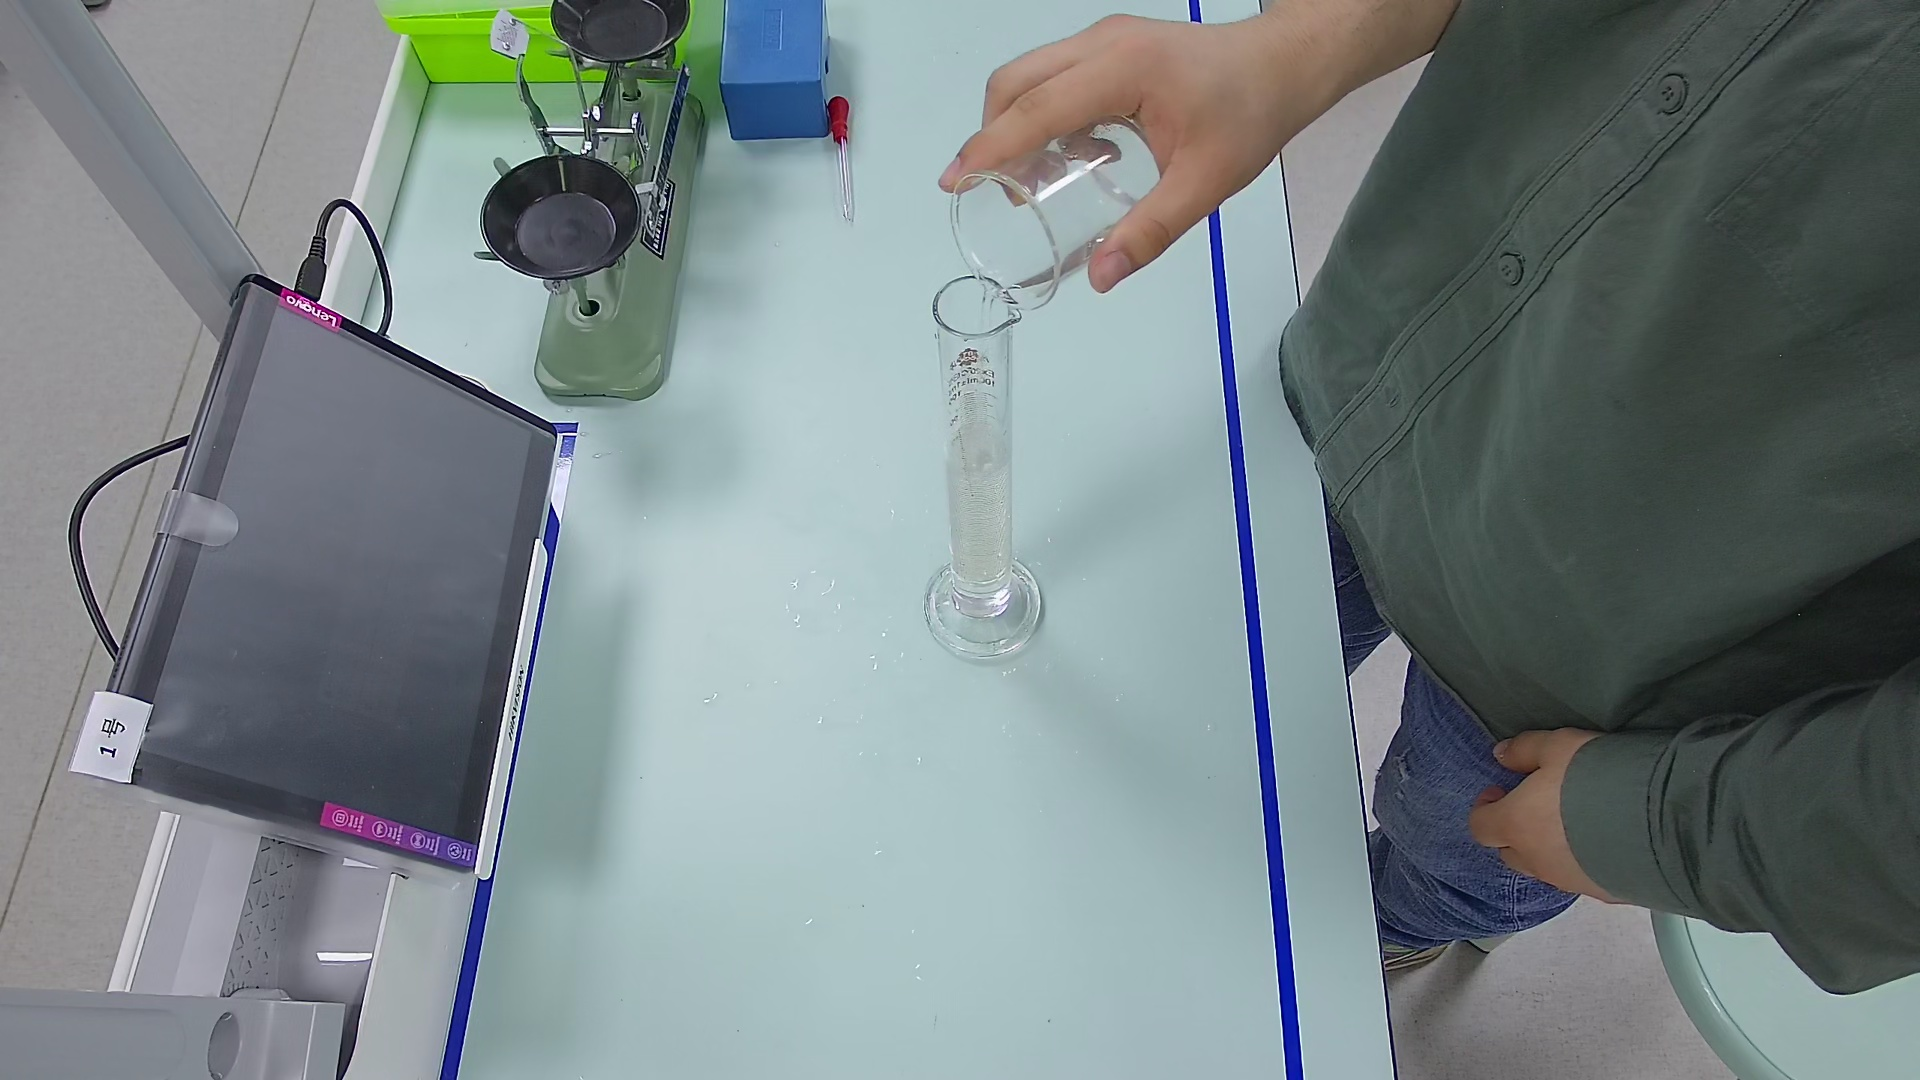ao: (949, 447, 1009, 479)
bei: (945, 116, 1174, 311)
diguan: (816, 95, 869, 225)
diguantou: (824, 96, 853, 140)
hand: (967, 18, 1270, 260), (1466, 729, 1582, 897)
liangdi: (922, 560, 1058, 671)
liangtong: (919, 273, 1054, 665)
tuo: (485, 152, 651, 286), (553, 1, 698, 73)
